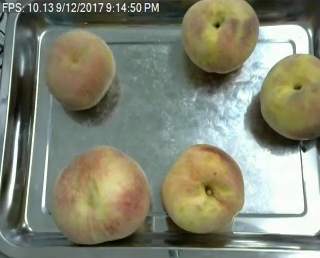Peach: (50, 145, 150, 244), (162, 143, 245, 235), (44, 27, 115, 110), (180, 0, 259, 73), (258, 52, 320, 141)
